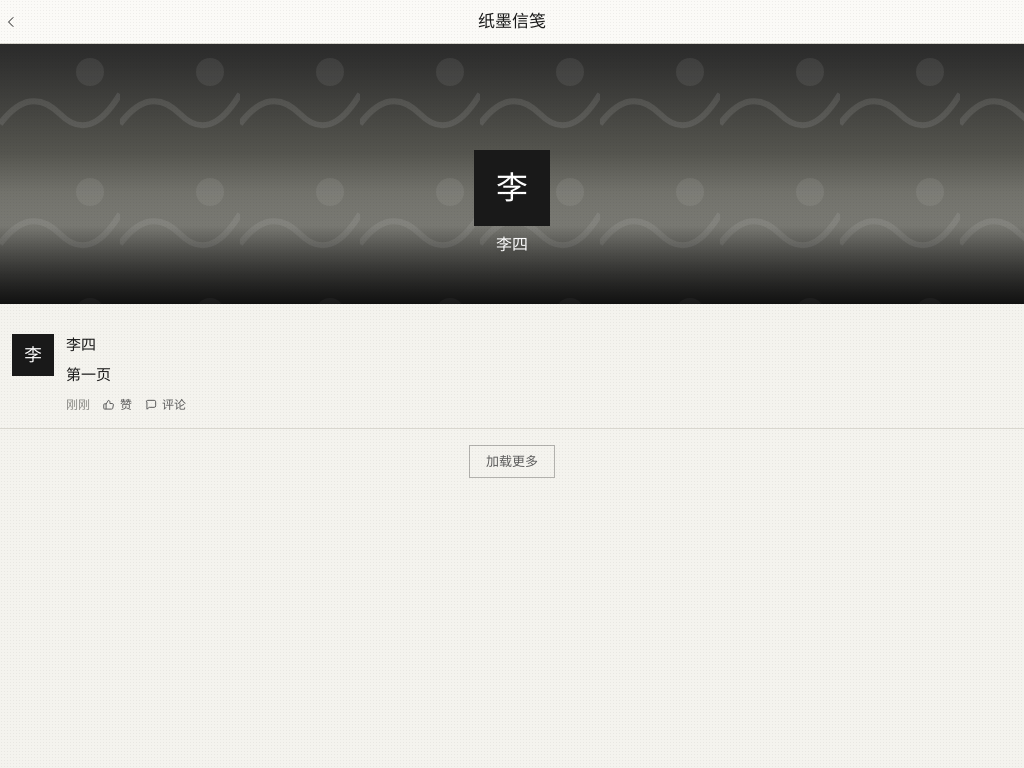
Test: FriendMoments 好友朋友圈流 › hasMore 时展示加载更多并 append 分页
What coordinates should you click on to do the following:
click the button with test id "fm-load-more"
I would click on:
 (512, 462)
Its box is [469,445,555,478].
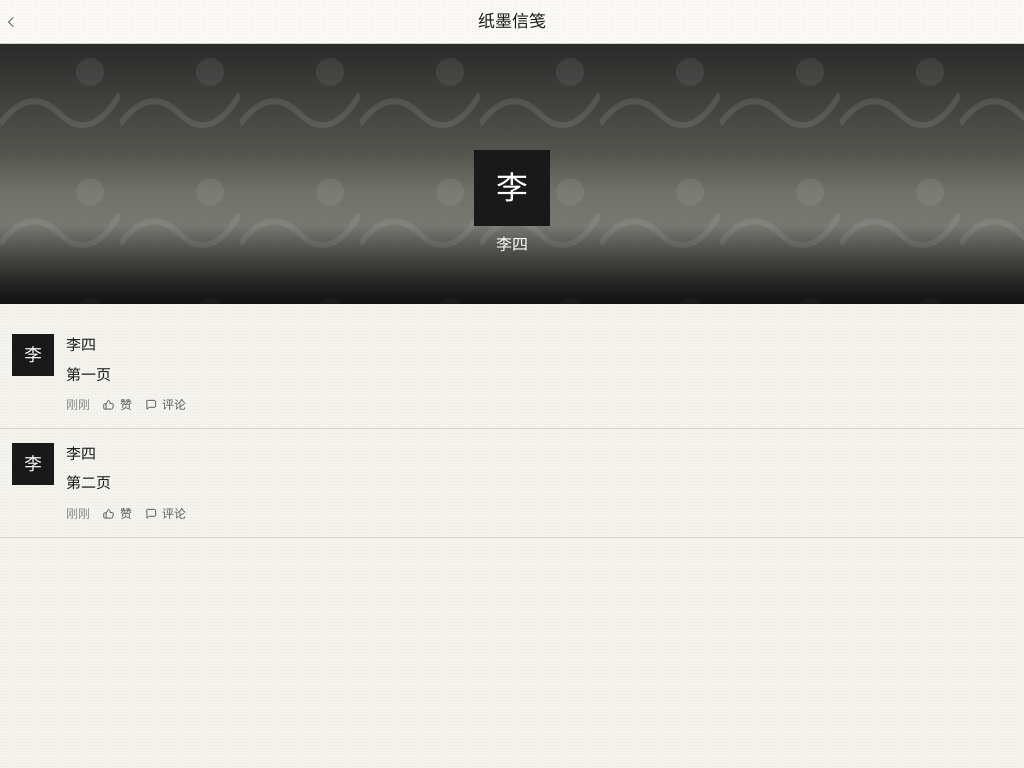
Expected: the text "第一页" is shown, [66,364,111,384]
Expected: the text "第二页" is shown, [66,473,111,492]
